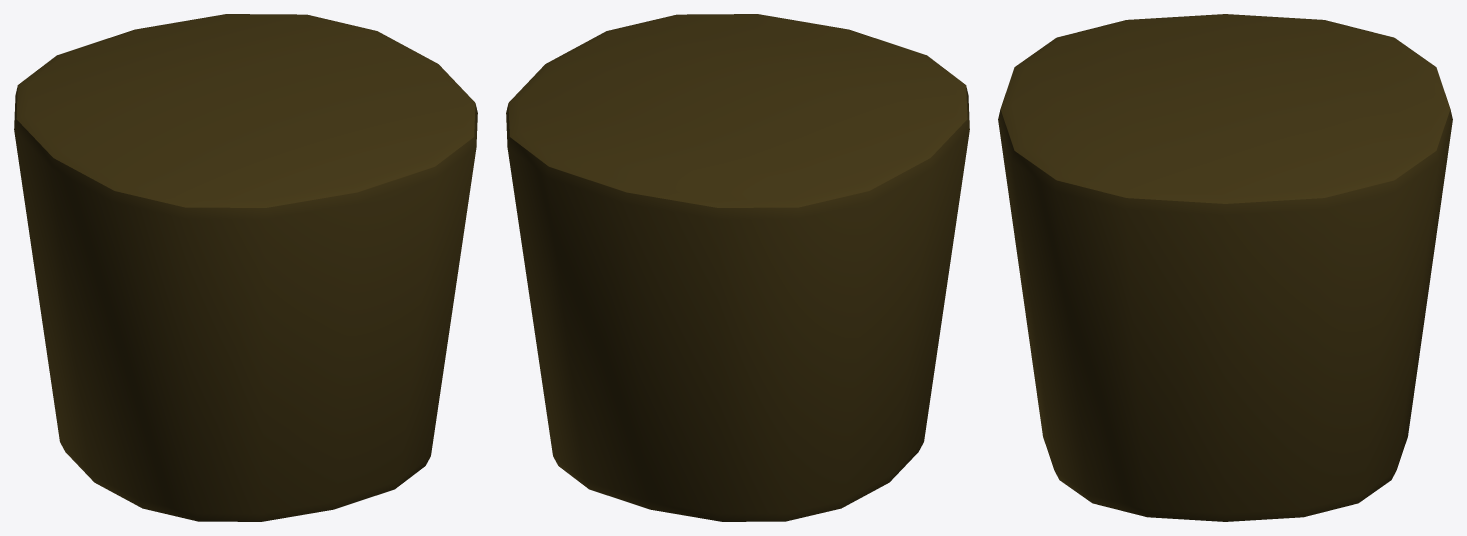
Rendered from BottlePlug_1.fbx.
3 views of the same model, side by side, from view 1: azimuth 30°, elevation 25°; view 2: azimuth 150°, elevation 25°; view 3: azimuth 270°, elevation 25° (orthographic).
Parts seen in each view (by area): view 1: BottlePlug_1; view 2: BottlePlug_1; view 3: BottlePlug_1.
Boxes of the visible parts, x1,y1,x2,y2 form: BottlePlug_1: (14,14,477,521); BottlePlug_1: (506,14,969,521); BottlePlug_1: (998,14,1452,521).
Bounding box in the file's own units: 3.21 × 2.69 × 3.22.
